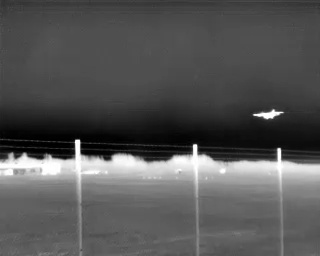AIRPLANE: (250, 106, 286, 123)
